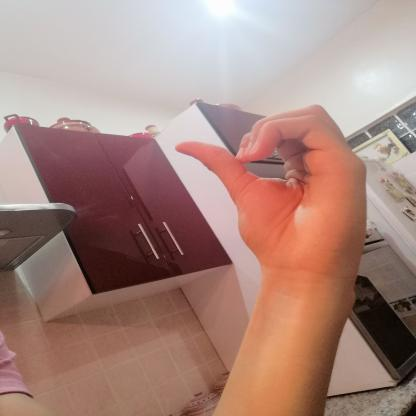WAW: (161, 94, 378, 306)
